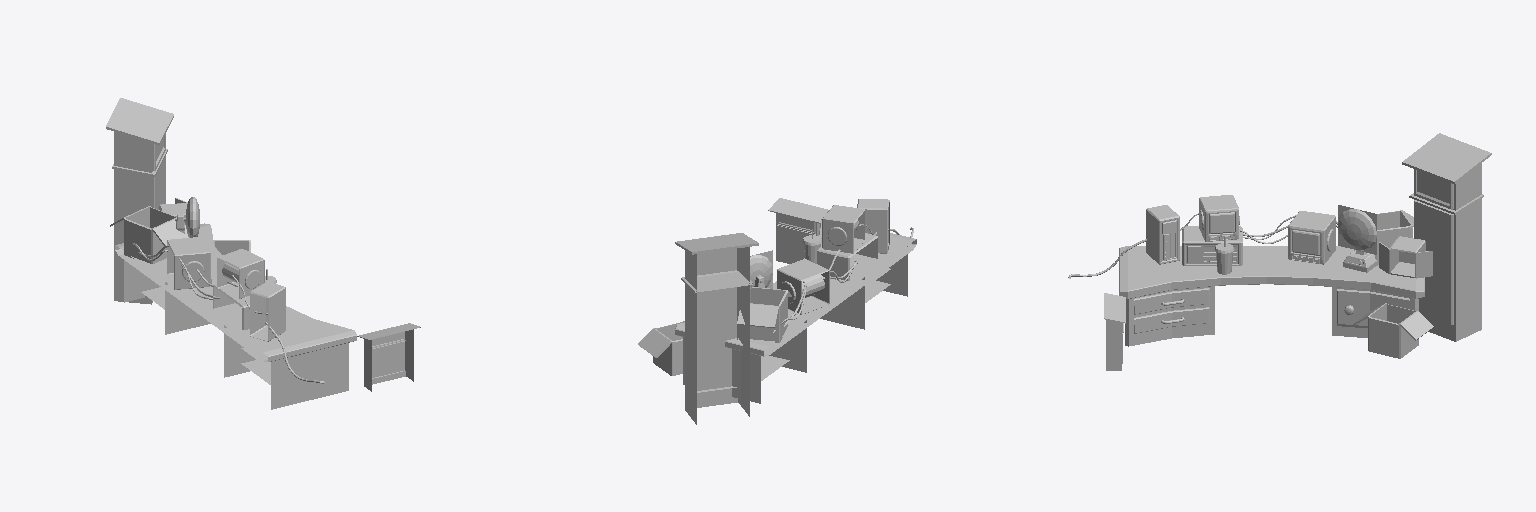
Rendered from Monitoring_Room02_UV.exported.obj.
The picture shows the model from 3 angles: view 1: azimuth 30°, elevation 25°; view 2: azimuth 150°, elevation 25°; view 3: azimuth 270°, elevation 25°; orthographic projection.
Visible parts, largest first — view 1: initialShadingGrouppolySurface73, initialShadingGroupgroup18pCube23, initialShadingGroupgroup18polySurface32, initialShadingGroupgroup18pCube32, group25 group24 group23 initialShadingGroupgroup18polySurface5, group27 initialShadingGroupgroup18pCube29, initialShadingGroupgroup18polySurface5 group22, initialShadingGroupgroup18pCube29 group26, group21 initialShadingGrouppolySurface54; view 2: initialShadingGroupgroup18pCube23, initialShadingGrouppolySurface73, initialShadingGroupgroup18polySurface32, initialShadingGroupgroup18pCube32, group25 group24 group23 initialShadingGroupgroup18polySurface5, initialShadingGroupgroup18polySurface5 group22, initialShadingGroupgroup18pCube30, initialShadingGroupgroup18pCube29 group26, group27 initialShadingGroupgroup18pCube29, group21 initialShadingGrouppolySurface54; view 3: initialShadingGrouppolySurface73, initialShadingGroupgroup18pCube23, initialShadingGroupgroup18pCube30, group25 group24 group23 initialShadingGroupgroup18polySurface5, initialShadingGroupgroup18pCube31, group21 initialShadingGrouppolySurface54, group27 initialShadingGroupgroup18pCube29, initialShadingGroupgroup18polySurface5 group22, initialShadingGroupgroup18polySurface32, initialShadingGroupgroup18pCube29 group26, initialShadingGroupgroup18pCube32.
Part boxes in pixels (left/top/right/bottom): initialShadingGrouppolySurface73: left=115, top=223, right=356, bottom=409; initialShadingGroupgroup18pCube23: left=106, top=98, right=173, bottom=304; initialShadingGroupgroup18polySurface32: left=357, top=323, right=420, bottom=391; initialShadingGroupgroup18pCube32: left=110, top=206, right=188, bottom=263; group25 group24 group23 initialShadingGroupgroup18polySurface5: left=167, top=237, right=210, bottom=289; group27 initialShadingGroupgroup18pCube29: left=250, top=282, right=285, bottom=341; initialShadingGroupgroup18polySurface5 group22: left=217, top=249, right=264, bottom=298; initialShadingGroupgroup18pCube29 group26: left=213, top=282, right=249, bottom=329; group21 initialShadingGrouppolySurface54: left=175, top=197, right=199, bottom=237; initialShadingGroupgroup18pCube23: left=675, top=233, right=758, bottom=424; initialShadingGrouppolySurface73: left=675, top=219, right=916, bottom=403; initialShadingGroupgroup18polySurface32: left=768, top=198, right=828, bottom=263; initialShadingGroupgroup18pCube32: left=737, top=287, right=791, bottom=342; group25 group24 group23 initialShadingGroupgroup18polySurface5: left=777, top=259, right=829, bottom=314; initialShadingGroupgroup18polySurface5 group22: left=822, top=205, right=864, bottom=253; initialShadingGroupgroup18pCube30: left=638, top=321, right=684, bottom=375; initialShadingGroupgroup18pCube29 group26: left=817, top=233, right=877, bottom=280; group27 initialShadingGroupgroup18pCube29: left=857, top=199, right=889, bottom=253; group21 initialShadingGrouppolySurface54: left=750, top=255, right=772, bottom=287; initialShadingGrouppolySurface73: left=1119, top=246, right=1424, bottom=346; initialShadingGroupgroup18pCube23: left=1402, top=133, right=1491, bottom=341; initialShadingGroupgroup18pCube30: left=1352, top=303, right=1433, bottom=358; group25 group24 group23 initialShadingGroupgroup18polySurface5: left=1288, top=211, right=1335, bottom=264; initialShadingGroupgroup18pCube31: left=1379, top=236, right=1432, bottom=278; group21 initialShadingGrouppolySurface54: left=1338, top=209, right=1376, bottom=272; group27 initialShadingGroupgroup18pCube29: left=1146, top=205, right=1179, bottom=264; initialShadingGroupgroup18polySurface5 group22: left=1199, top=195, right=1239, bottom=241; initialShadingGroupgroup18polySurface32: left=1104, top=293, right=1125, bottom=370; initialShadingGroupgroup18pCube29 group26: left=1182, top=226, right=1242, bottom=265; initialShadingGroupgroup18pCube32: left=1374, top=210, right=1413, bottom=265.
Bounding box in the file's own units: 29.27 × 32.27 × 69.99.